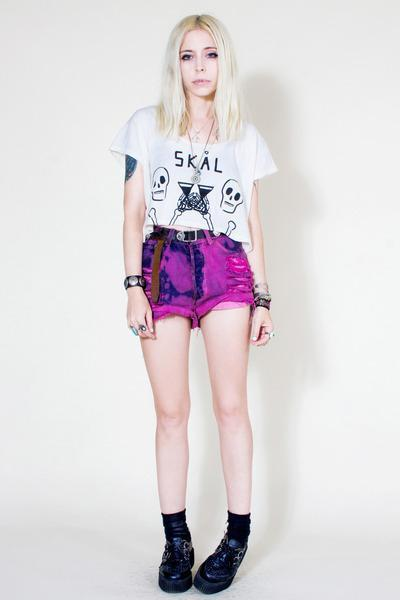shirt: (121, 102, 275, 241)
shoe: (159, 509, 250, 592)
shorts: (124, 229, 270, 331)
